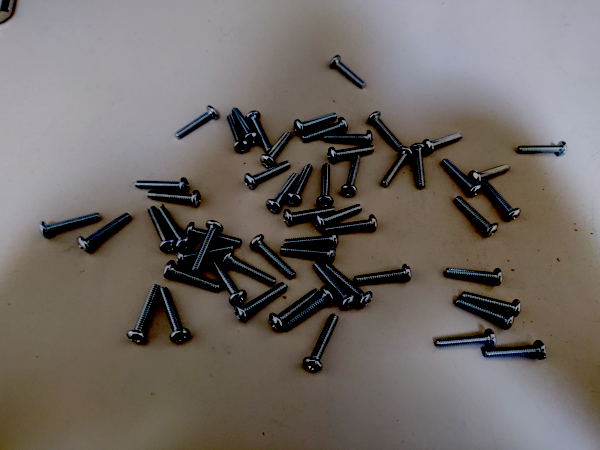longscrew: (122, 284, 161, 345), (240, 281, 288, 328), (479, 178, 523, 227), (281, 292, 331, 334), (79, 212, 131, 252), (308, 264, 354, 309), (305, 312, 337, 375), (324, 265, 373, 306), (253, 234, 298, 278), (452, 192, 495, 238), (192, 221, 229, 274), (40, 208, 103, 239), (454, 297, 514, 329), (164, 258, 219, 292), (220, 252, 276, 285), (273, 286, 317, 327), (157, 289, 189, 345), (209, 258, 246, 305), (441, 158, 482, 197), (187, 218, 244, 246), (174, 107, 223, 139), (442, 264, 506, 288), (460, 293, 524, 317), (433, 329, 497, 353), (486, 341, 550, 365), (157, 205, 191, 249), (352, 261, 412, 285), (265, 170, 298, 213), (283, 163, 316, 206), (146, 206, 174, 255), (245, 160, 291, 189), (263, 122, 291, 169), (176, 244, 238, 265), (365, 110, 400, 147), (329, 55, 368, 88), (382, 144, 411, 186), (316, 204, 361, 229), (324, 217, 380, 237), (225, 111, 250, 155), (234, 102, 259, 146), (248, 107, 273, 150), (329, 139, 372, 163), (284, 205, 333, 226), (134, 173, 188, 192), (313, 163, 336, 207), (344, 153, 367, 197), (304, 118, 346, 142), (296, 110, 339, 133), (279, 244, 336, 261), (330, 123, 372, 146), (150, 188, 203, 205), (517, 139, 567, 156), (423, 133, 467, 152), (282, 234, 342, 247), (467, 166, 518, 178), (418, 145, 425, 194)
